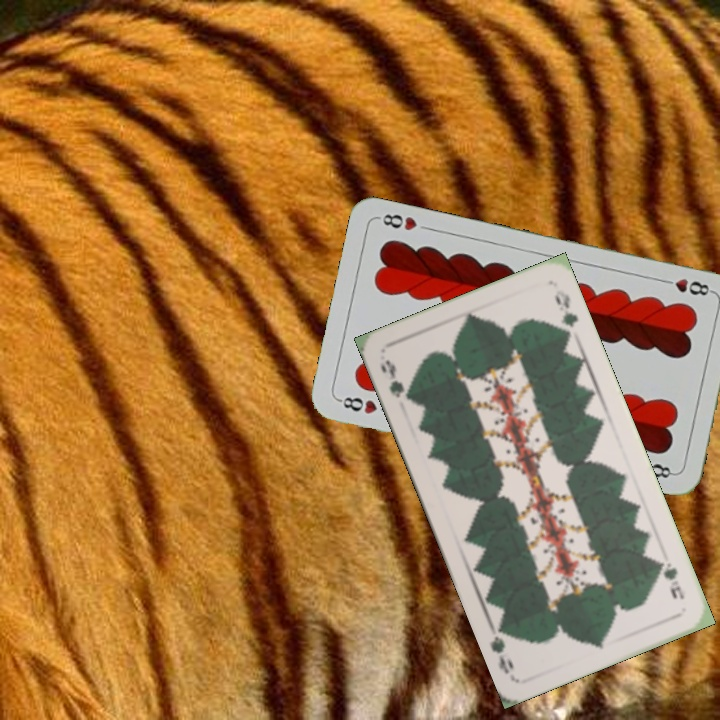G9: (376, 355, 416, 405), (652, 555, 687, 602)
H8: (657, 274, 716, 299), (334, 392, 380, 417)
